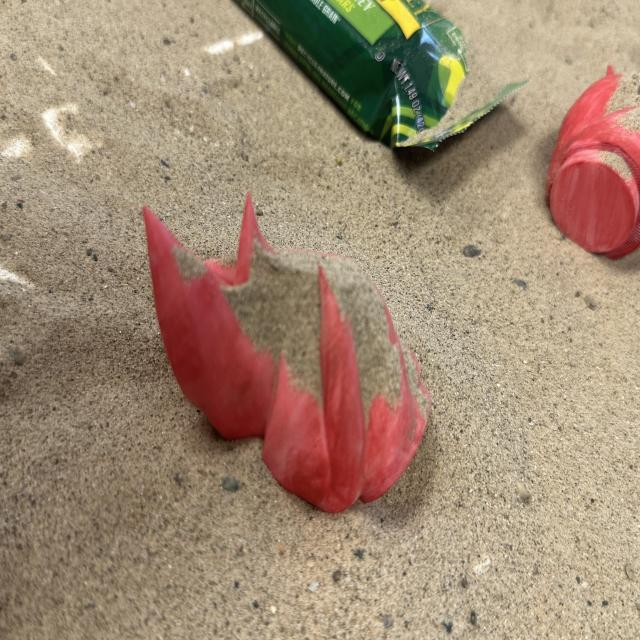fire: (140, 189, 433, 514), (544, 63, 639, 260)
